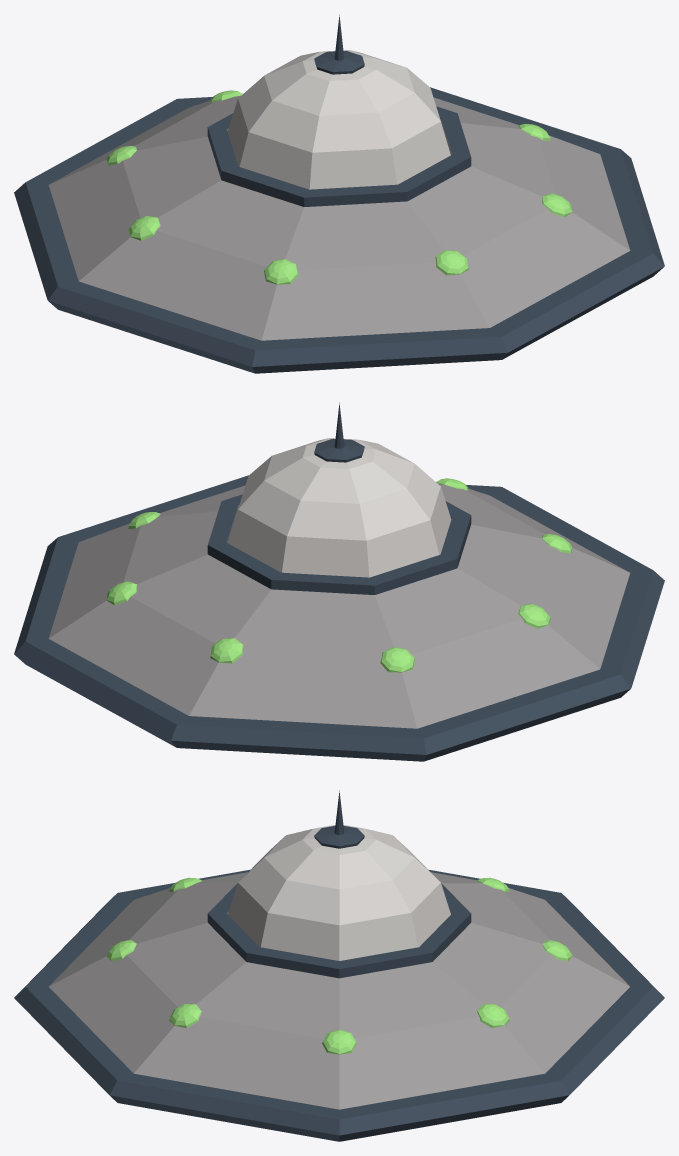
Rendered from flying-saucer.glb.
3 renders of one model, top to bottom at view 1: azimuth 30°, elevation 25°; view 2: azimuth 150°, elevation 25°; view 3: azimuth 270°, elevation 25°, orthographic. The views are drawn at different scales.
Parts seen in each view (by area): view 1: flying_sacuer:Mesh; view 2: flying_sacuer:Mesh; view 3: flying_sacuer:Mesh.
Boxes of the visible parts, bbox=[...] form: flying_sacuer:Mesh: bbox=[14, 14, 664, 373]; flying_sacuer:Mesh: bbox=[14, 402, 664, 761]; flying_sacuer:Mesh: bbox=[14, 790, 664, 1141].
Bounding box in the file's own units: 0.0224 × 0.0104 × 0.0224.
